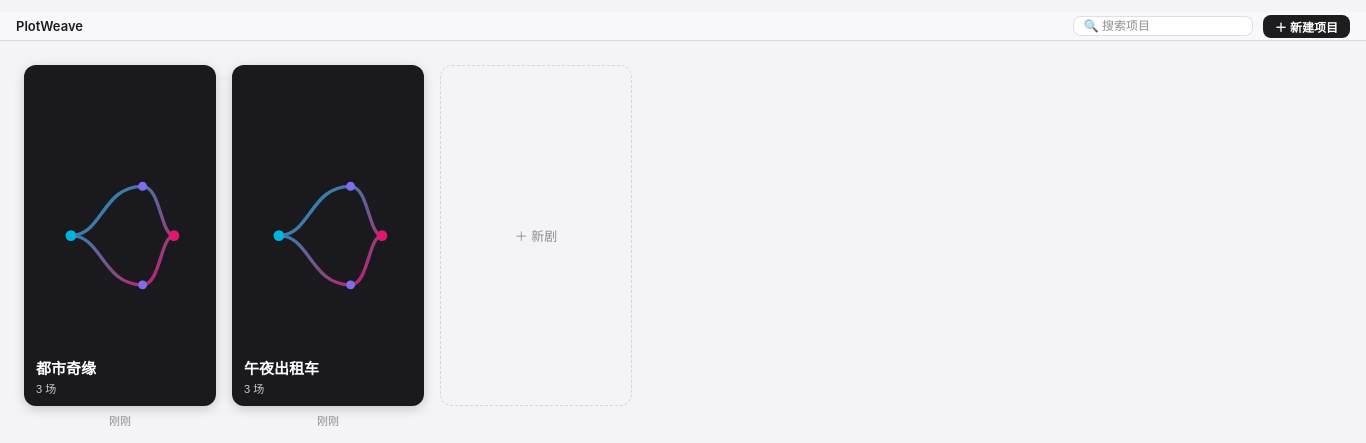
Test: HomePage 列表与搜索 › 搜索框内存过滤；无匹配时显示提示
The image size is (1366, 443).
In the search field labelled "搜索项目": [1163, 26] box [1073,16,1253,36], type "出租车"
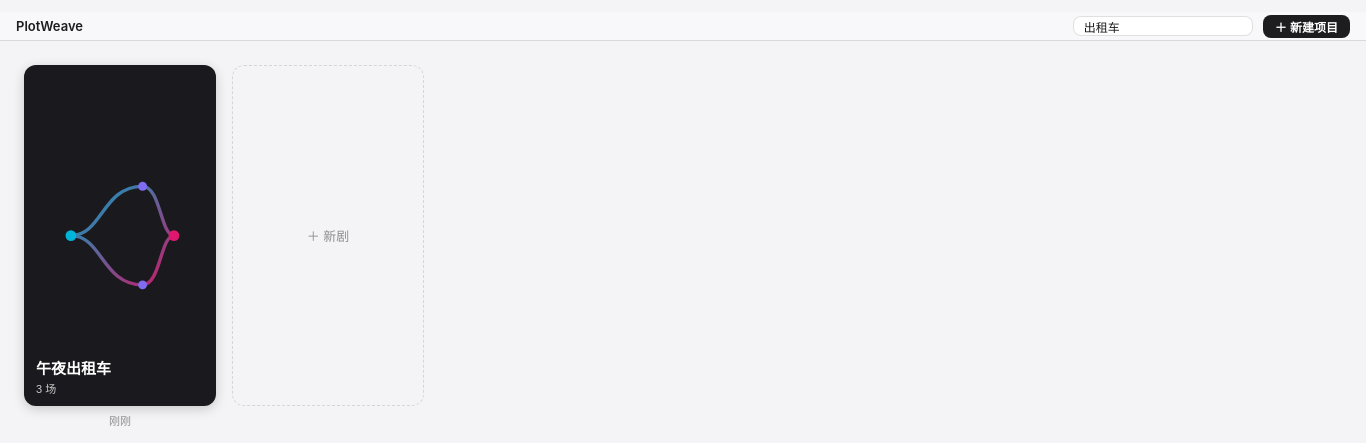
Expected: the button with aria-label "打开项目 午夜出租车" is shown, [24,65,216,406]
Replace the text in the search field named "搜索项目" with "不存在": [1163, 26] box [1073,16,1253,36]
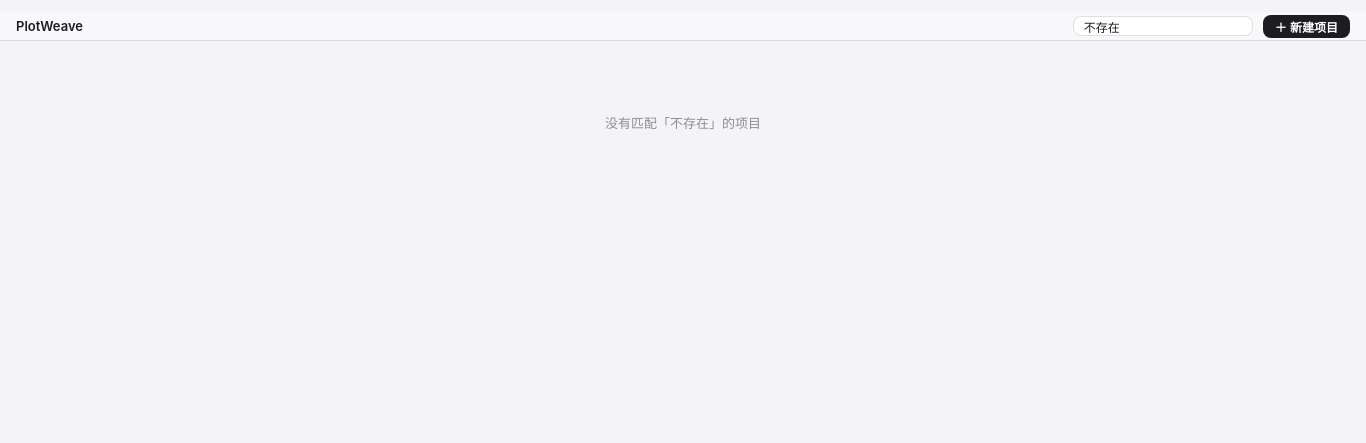
Now the text "没有匹配「不存在」的项目" is shown, box [605,115,761,131]
